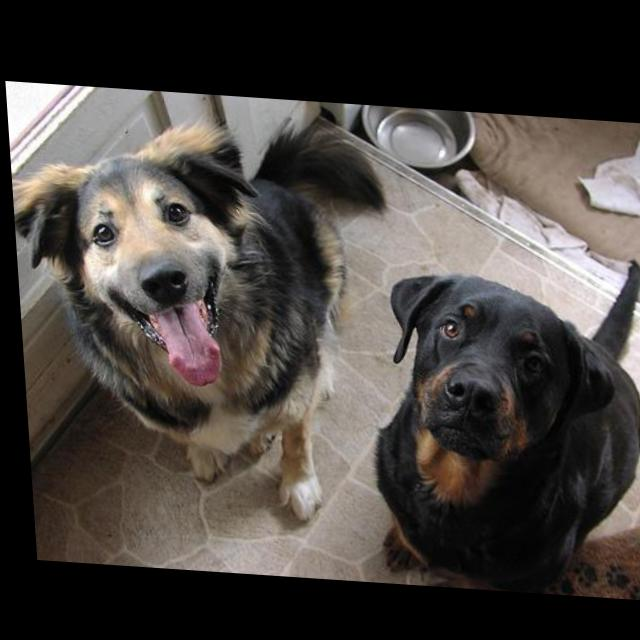other_dog_breed: (7, 97, 403, 523)
rottweiler: (357, 235, 640, 592)
